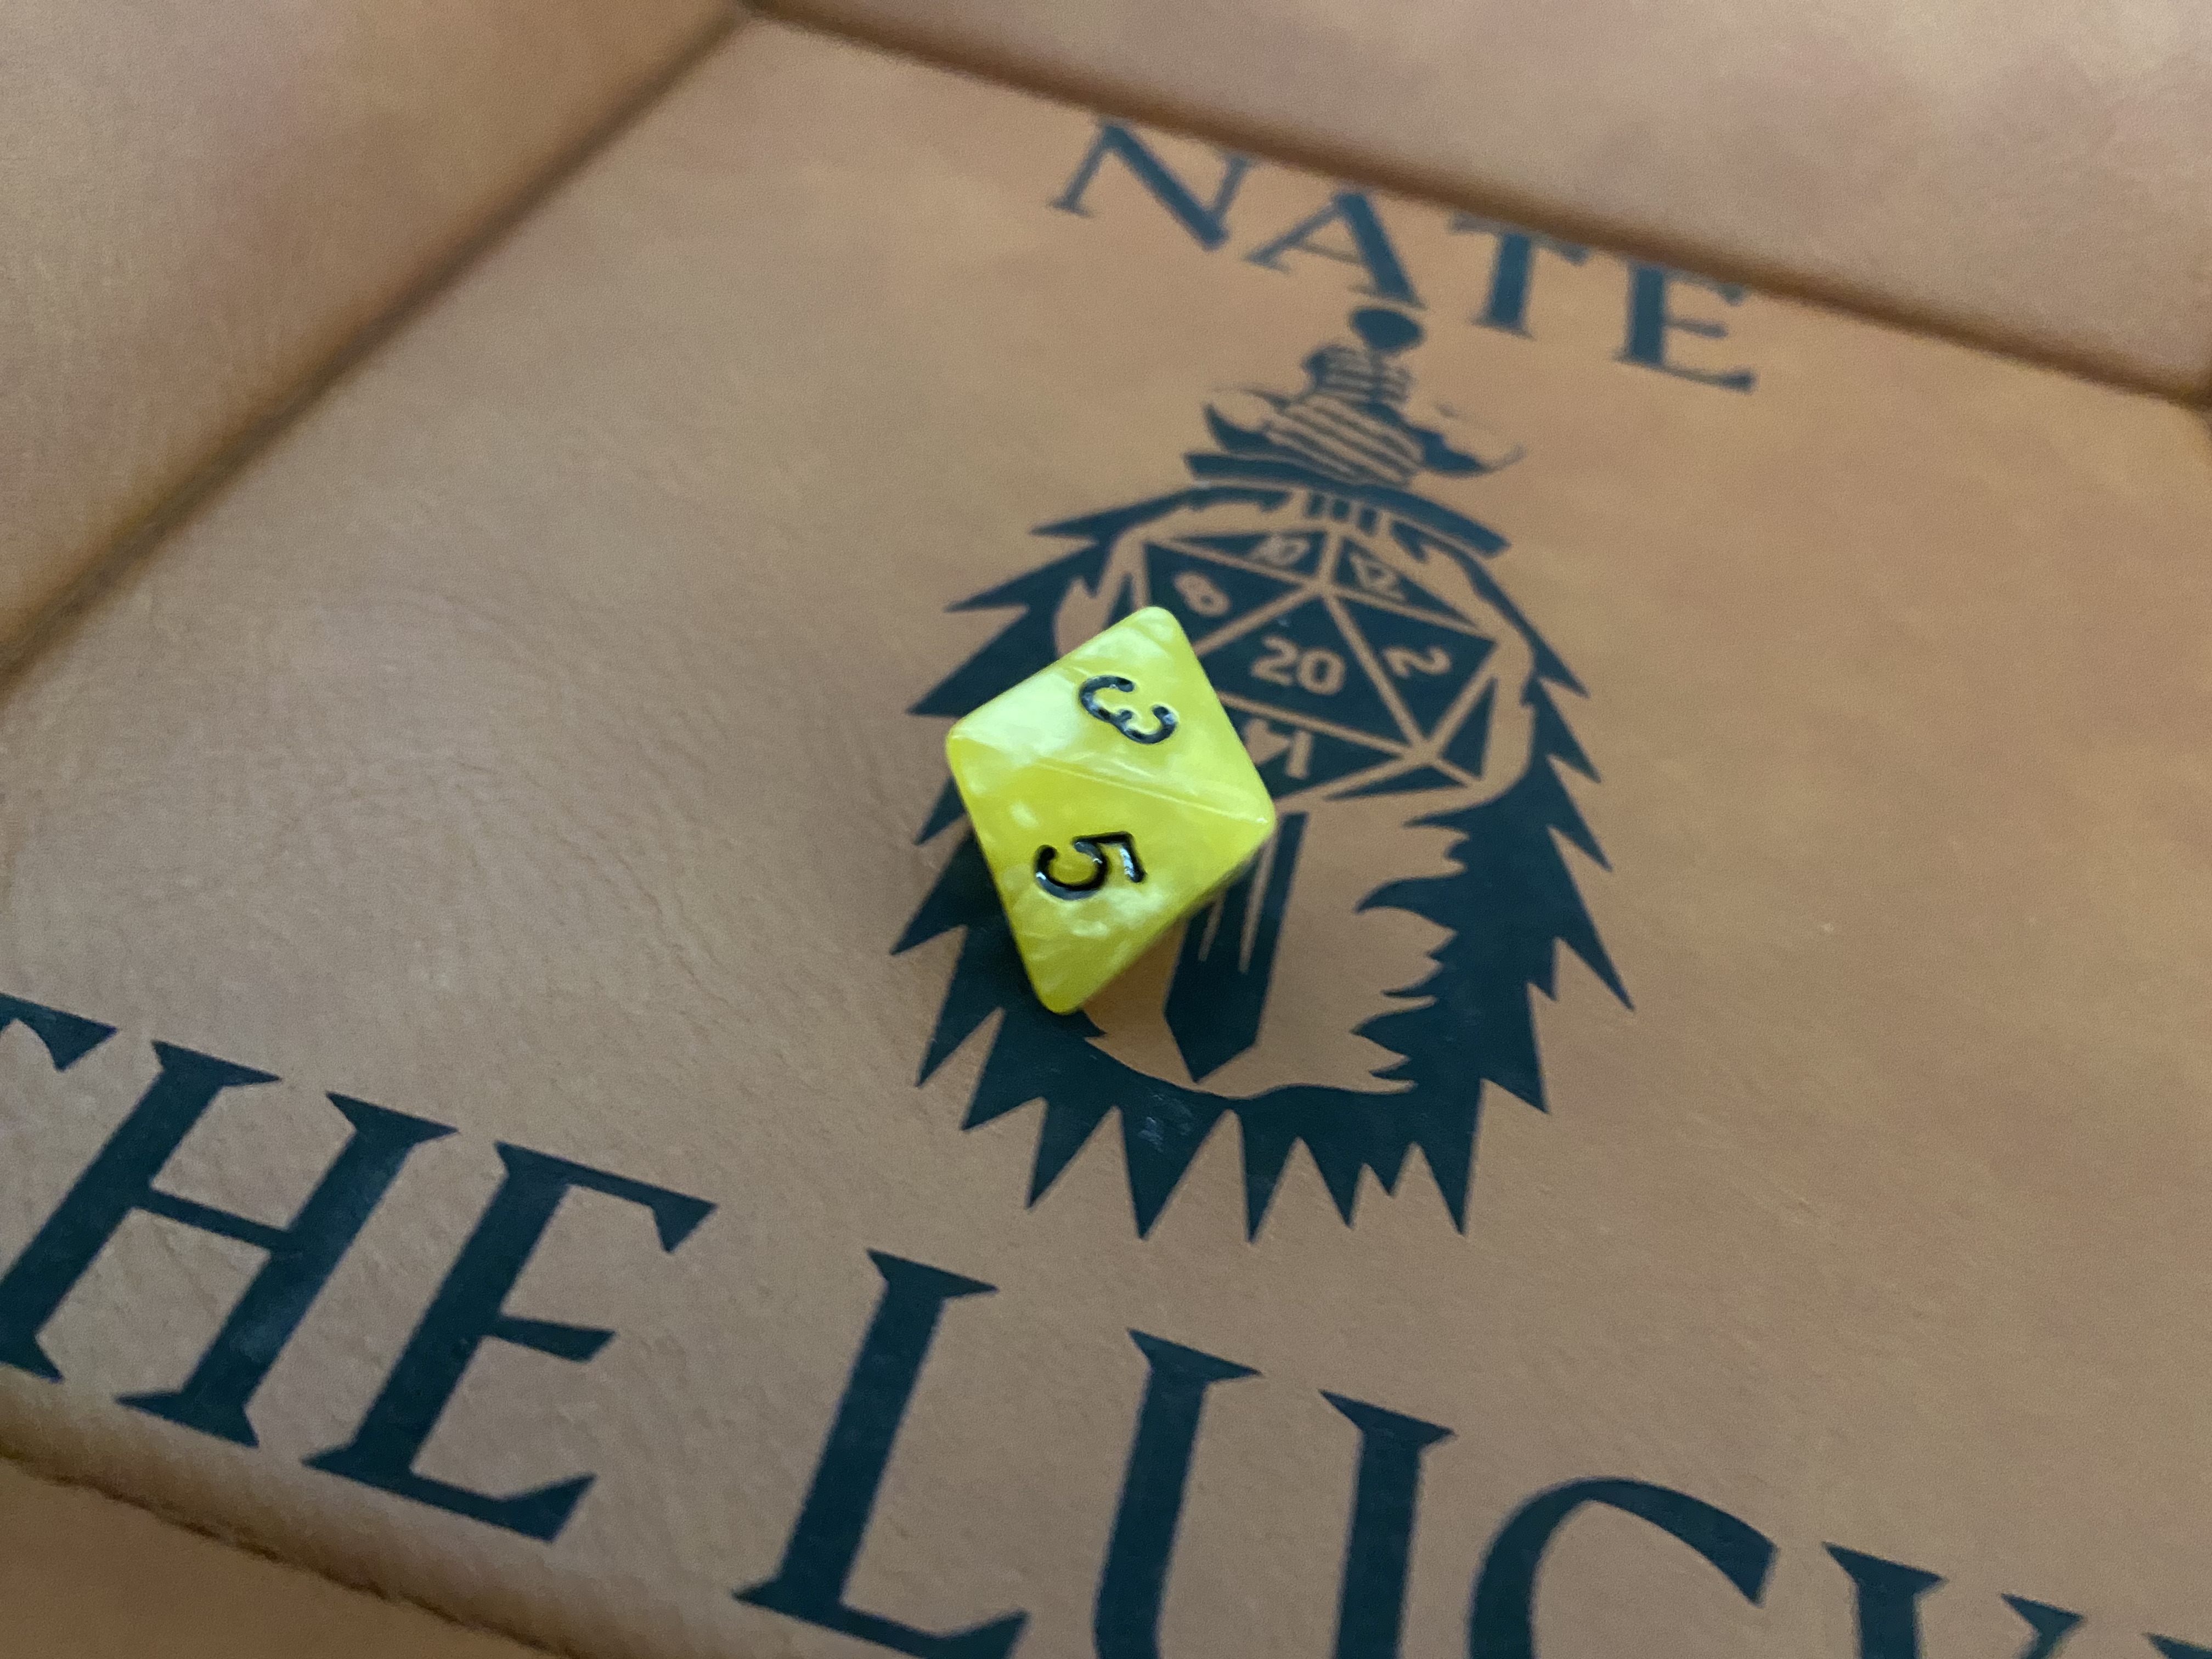three: (900, 580, 1322, 1021)
